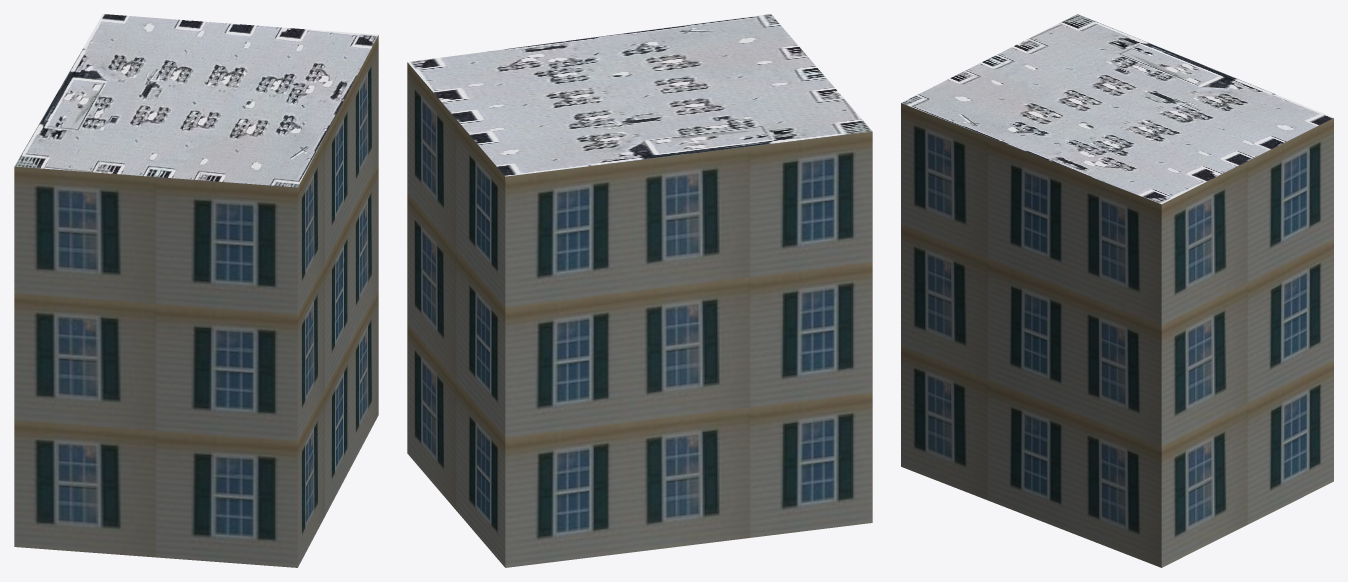
Rendered from ResTex__2274.fbx.
The picture shows the model from 3 angles, left to right: view 1: azimuth 30°, elevation 25°; view 2: azimuth 150°, elevation 25°; view 3: azimuth 270°, elevation 25°; orthographic projection. The views are drawn at different scales.
Parts seen in each view (by area): view 1: CityEngineMaterial_7_m, CityEngineMaterial_m; view 2: CityEngineMaterial_7_m, CityEngineMaterial_m; view 3: CityEngineMaterial_7_m, CityEngineMaterial_m.
Boxes of the visible parts, x1,y1,x2,y2 form: CityEngineMaterial_7_m: (14,35,378,567); CityEngineMaterial_m: (14,14,378,187); CityEngineMaterial_7_m: (407,62,872,567); CityEngineMaterial_m: (407,14,872,176); CityEngineMaterial_7_m: (901,103,1333,567); CityEngineMaterial_m: (901,14,1333,204).
Size of the model in its own units: 10.1 by 9 by 9.71.
Materials: 2 (2 with a texture image).
